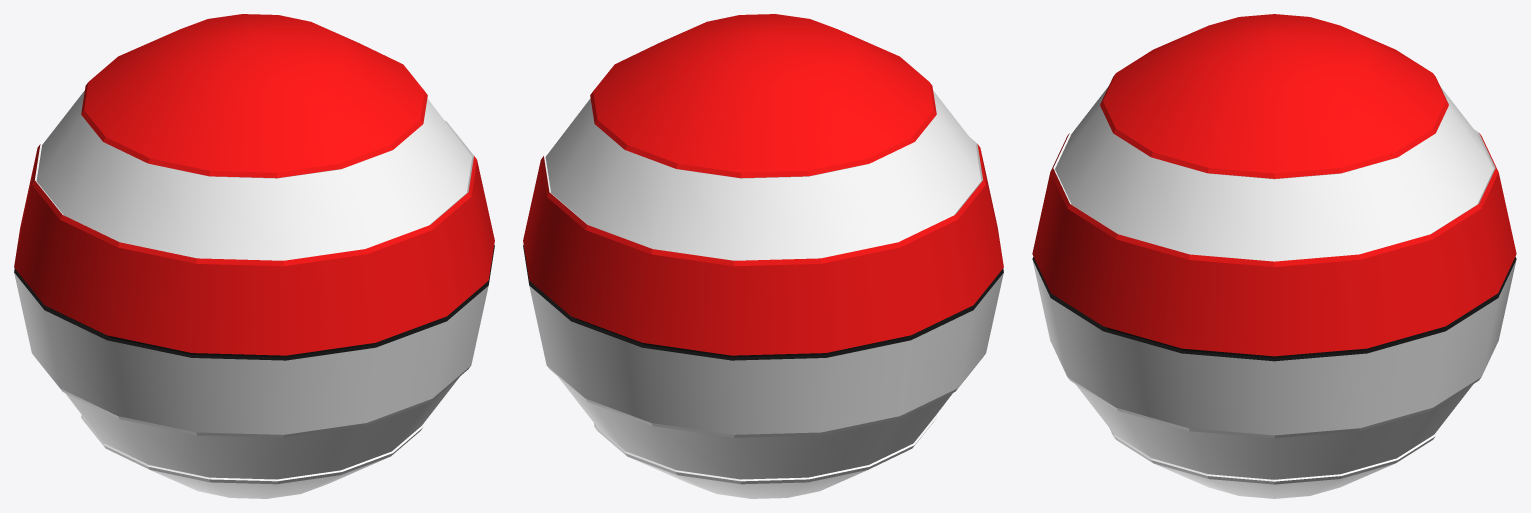
The model's file is Inimigo02_Mapa012_Pokemon.FBX.
3 renders of one model, left to right at view 1: azimuth 30°, elevation 25°; view 2: azimuth 150°, elevation 25°; view 3: azimuth 270°, elevation 25°, orthographic.
Visible parts, largest first — view 1: Sphere002; view 2: Sphere002; view 3: Sphere002.
Boxes of the visible parts, x1,y1,x2,y2 form: Sphere002: [14, 14, 494, 498]; Sphere002: [523, 14, 1003, 498]; Sphere002: [1032, 14, 1516, 498].
Bounding box in the file's own units: 88.15 × 88.35 × 88.15.
